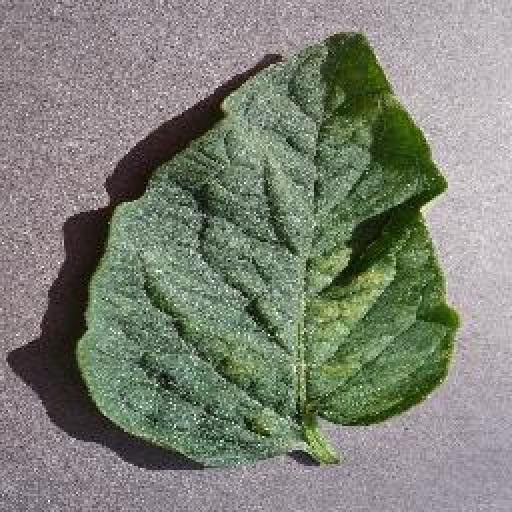disease_tomato: (75, 35, 460, 468)
